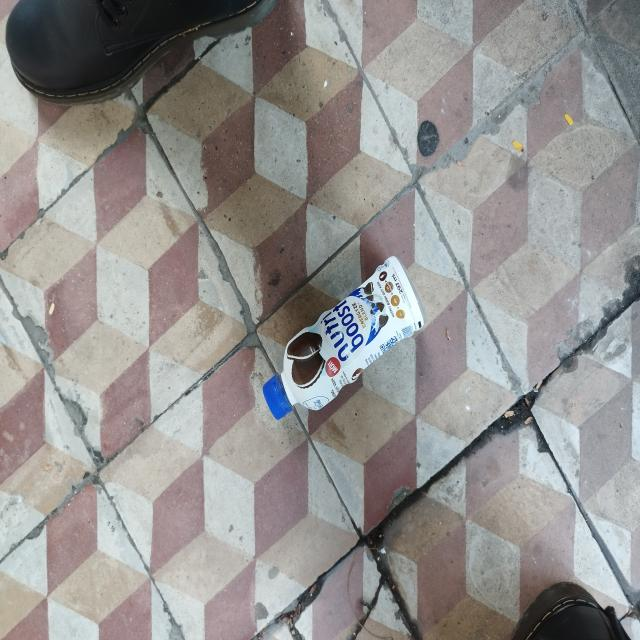bottle: (264, 255, 426, 420)
